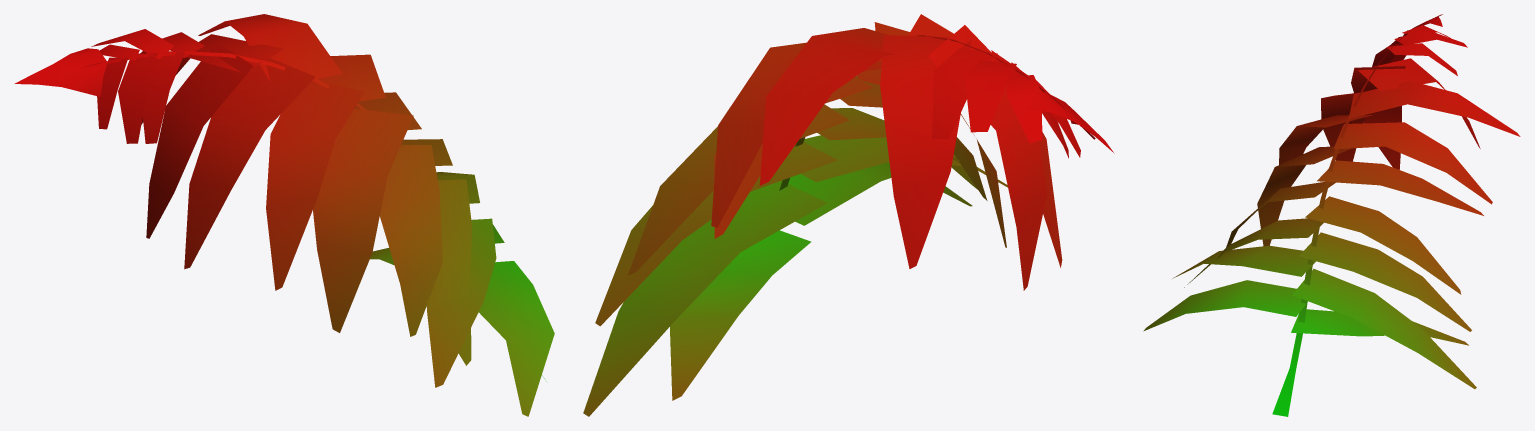
The model's file is Var9_LOD3.fbx.
3 views of the same model, side by side, from view 1: azimuth 30°, elevation 25°; view 2: azimuth 150°, elevation 25°; view 3: azimuth 270°, elevation 25° (orthographic). The views are drawn at different scales.
Parts seen in each view (by area): view 1: _5v3c_Var9_LOD3; view 2: _5v3c_Var9_LOD3; view 3: _5v3c_Var9_LOD3.
Part boxes in pixels (left/top/right/bottom): _5v3c_Var9_LOD3: left=14, top=14, right=554, bottom=416; _5v3c_Var9_LOD3: left=583, top=14, right=1114, bottom=416; _5v3c_Var9_LOD3: left=1143, top=14, right=1520, bottom=416.
Bounding box in the file's own units: 12.34 × 9.69 × 12.46.
